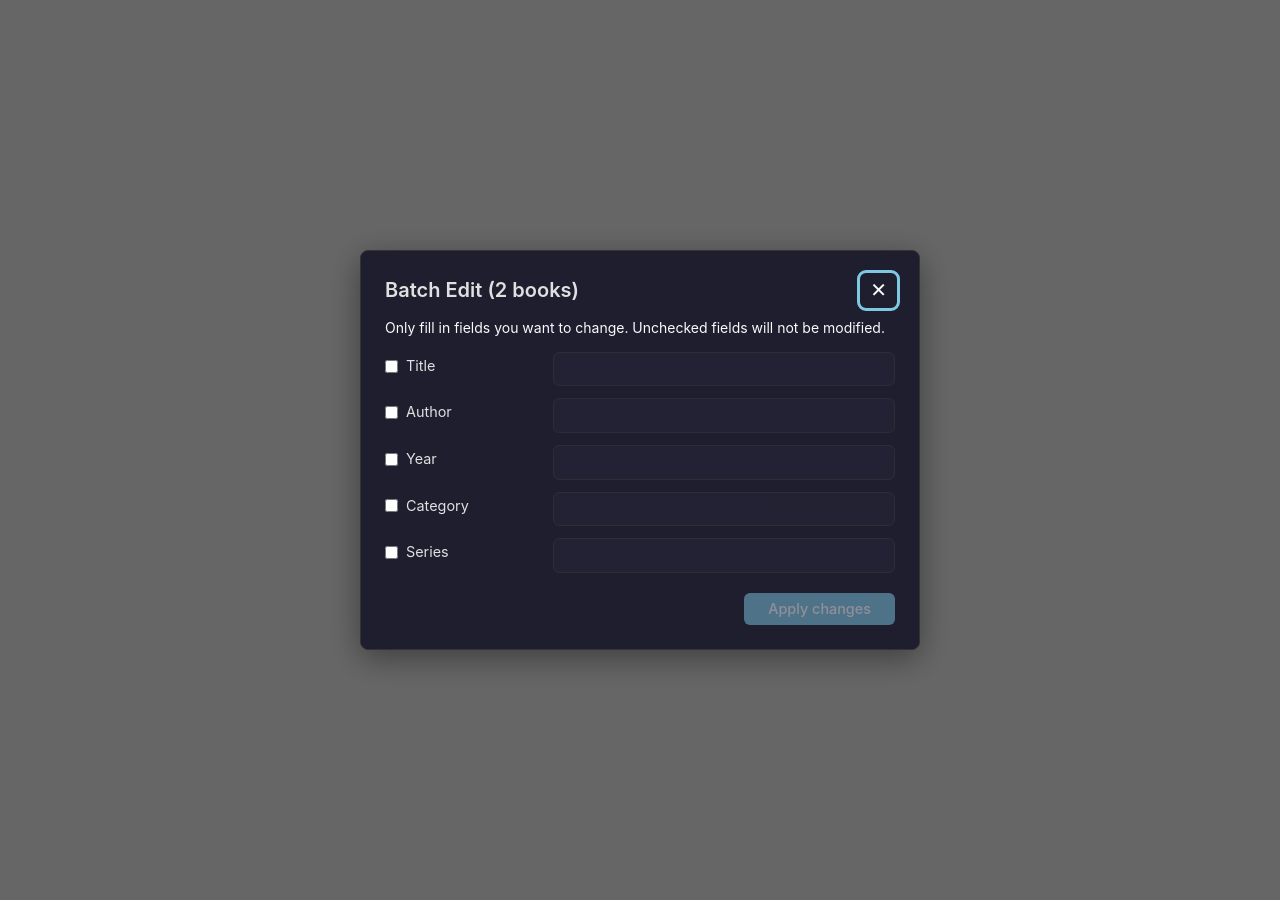
BatchEditPanel › enables submit button when a field toggle is checked
Click the checkbox labelled "Title" at (392, 366), box left=385, top=360, right=398, bottom=373
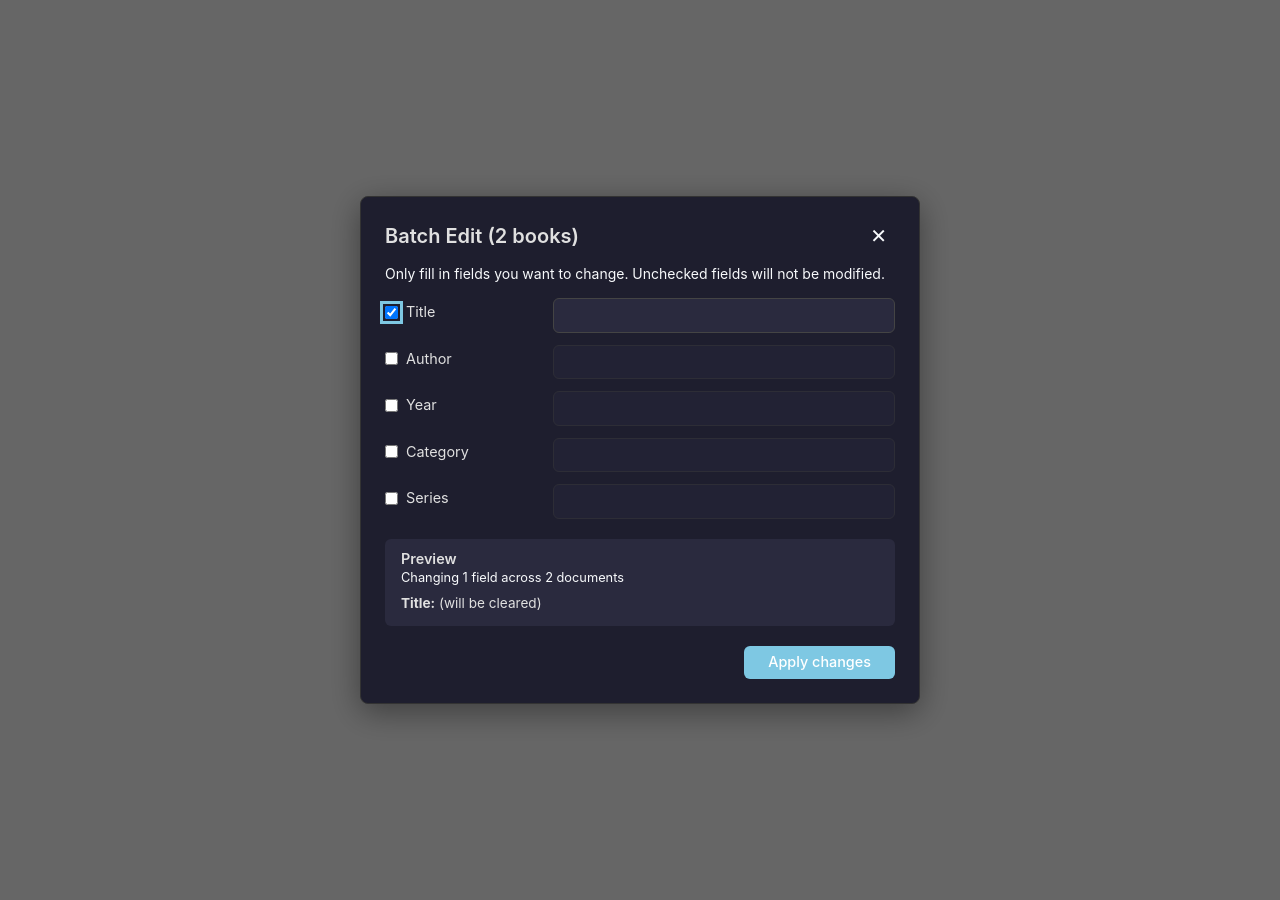
Now the button "Apply changes" is enabled, box left=744, top=646, right=895, bottom=679
